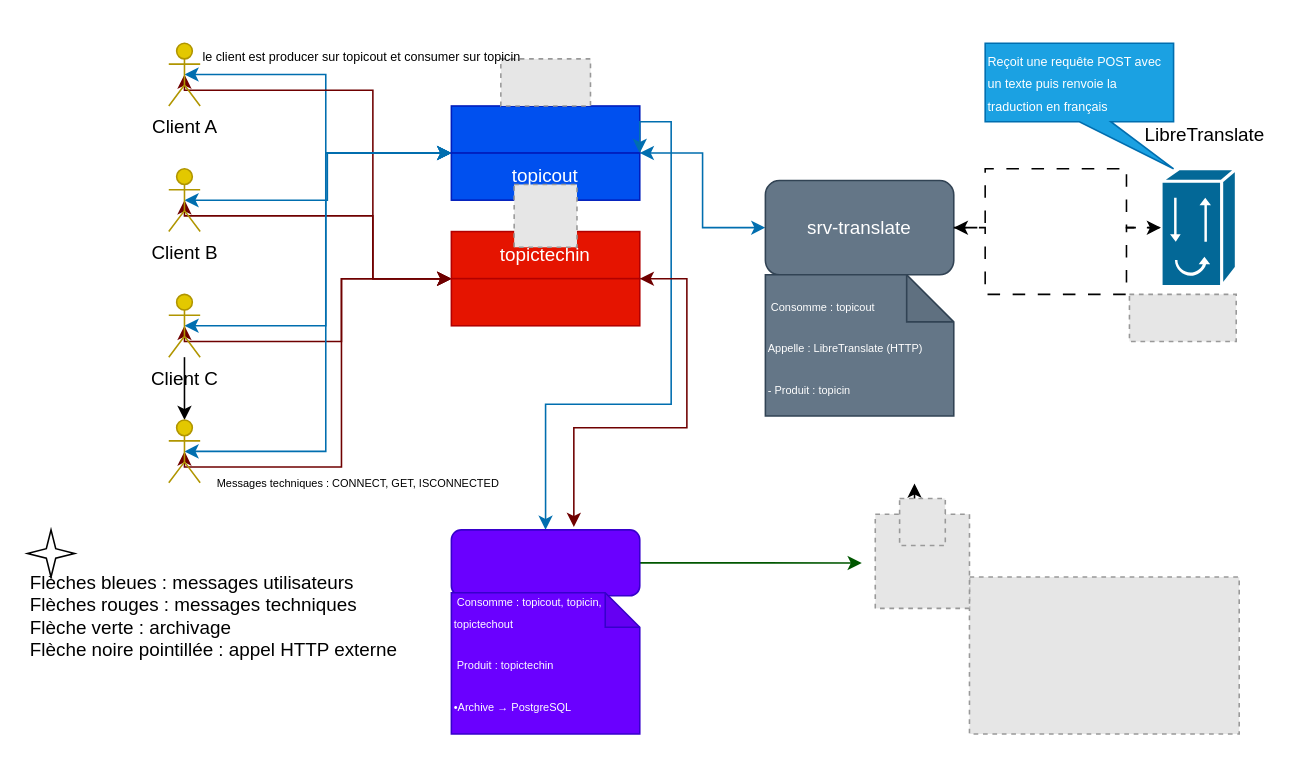
The diagram is 1311 pixels wide and 783 high, and some of its shapes have lost their labels. Grey dashed boxes stand in for pictures. The shapes that lost their labels are listed below. From the top down, each one's box as (x1, y1, x2, y2) in pixels, then its label:
(450, 104, 640, 153): topicin
(450, 277, 640, 326): topictechout
(167, 418, 200, 483): Client D
(450, 528, 640, 596): client-cons-db
